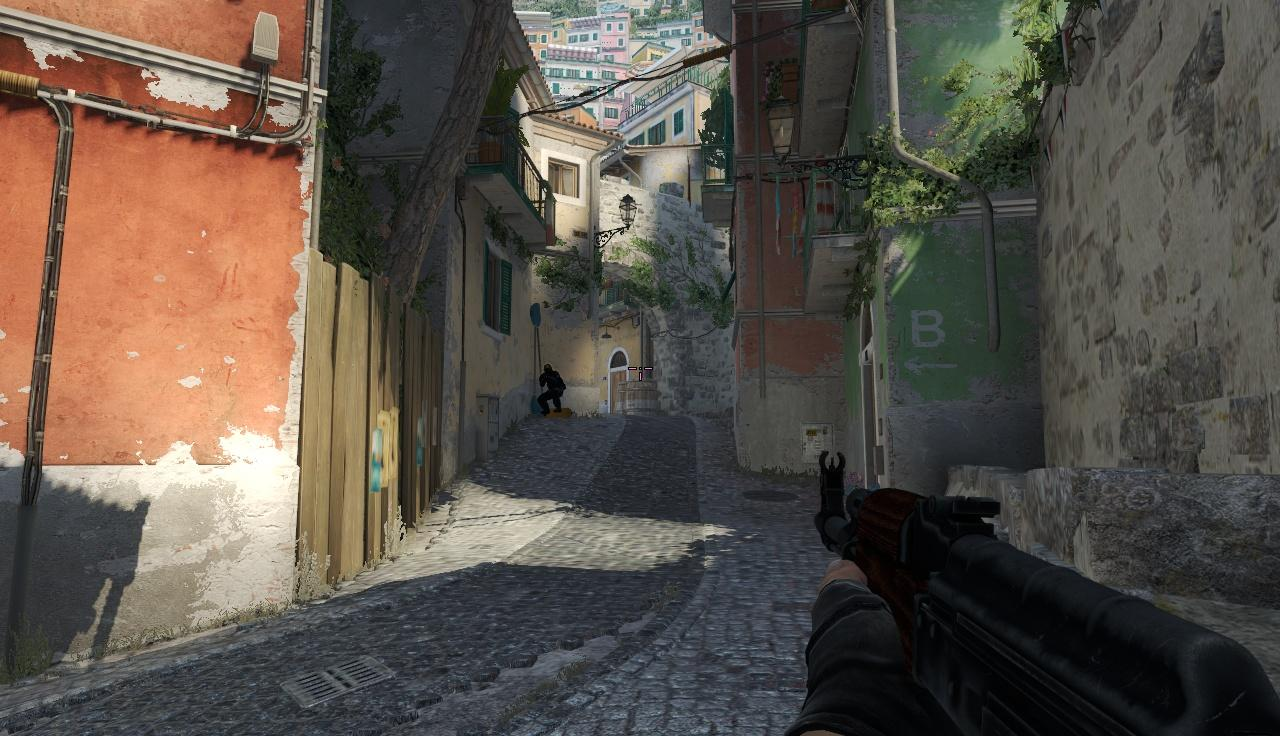ct: (540, 365, 566, 415)
cthead: (546, 365, 556, 376)
rifle: (815, 447, 1280, 731)
